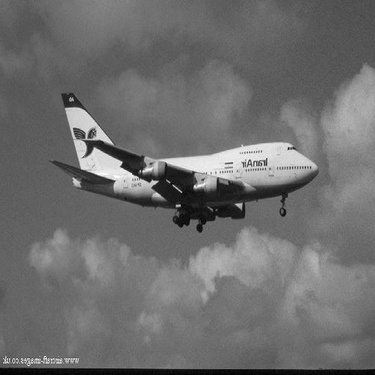airplane: (45, 87, 323, 233)
